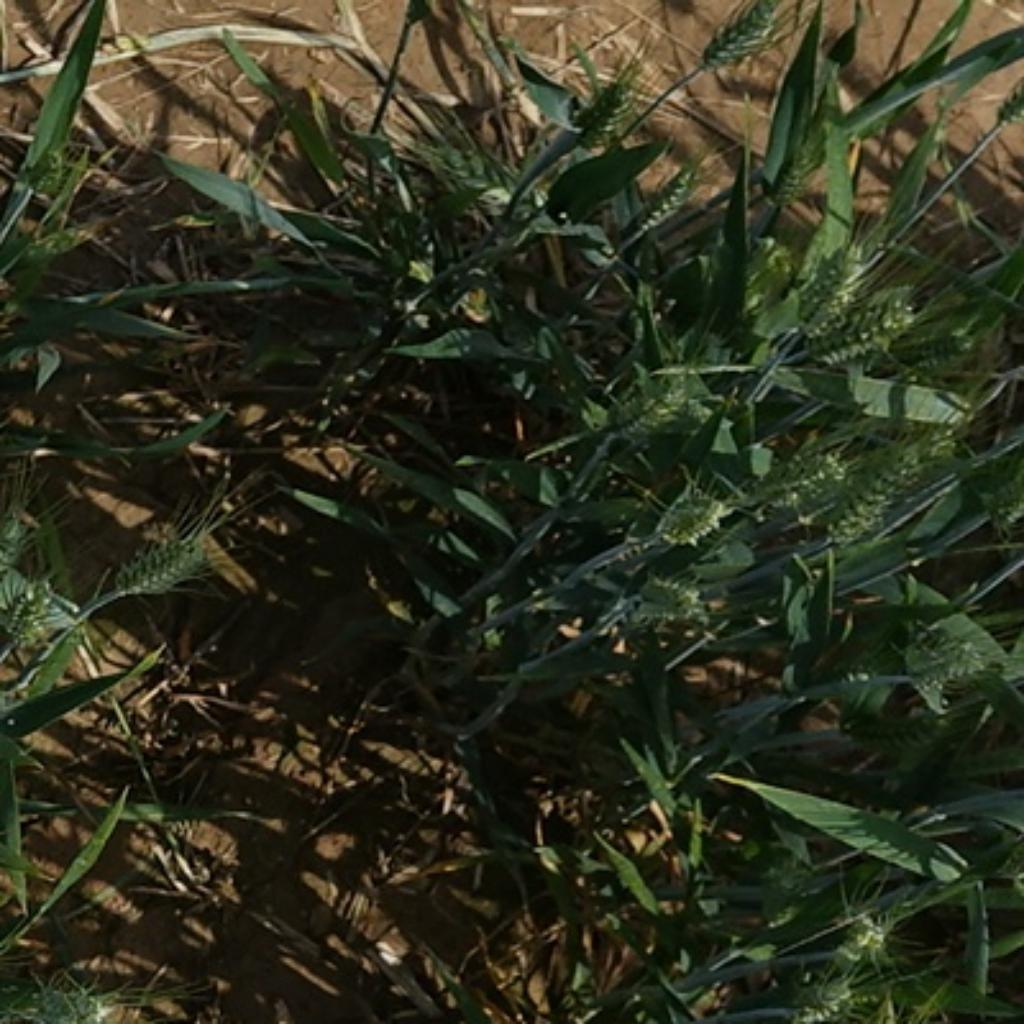0-0: (819, 427, 975, 542), (586, 358, 701, 460), (796, 235, 885, 353), (896, 609, 1013, 693), (773, 92, 849, 215), (737, 453, 855, 529), (104, 527, 220, 599), (609, 560, 711, 640), (816, 294, 919, 371), (647, 473, 732, 550), (821, 903, 911, 975), (0, 570, 66, 665), (581, 64, 650, 153), (637, 158, 711, 238), (701, 2, 788, 69), (0, 972, 107, 1024), (788, 957, 860, 1024), (20, 139, 74, 216), (0, 506, 33, 599)
